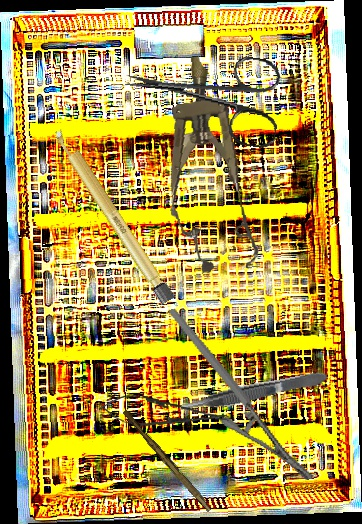Iris Scissors: (118, 38, 287, 150)
Needle Holder: (168, 283, 315, 505), (97, 392, 231, 434)
Scalpel Handle: (51, 125, 176, 306), (120, 408, 215, 513)
Speculum: (152, 51, 265, 277)
Tissue Forceps: (174, 368, 330, 417)
